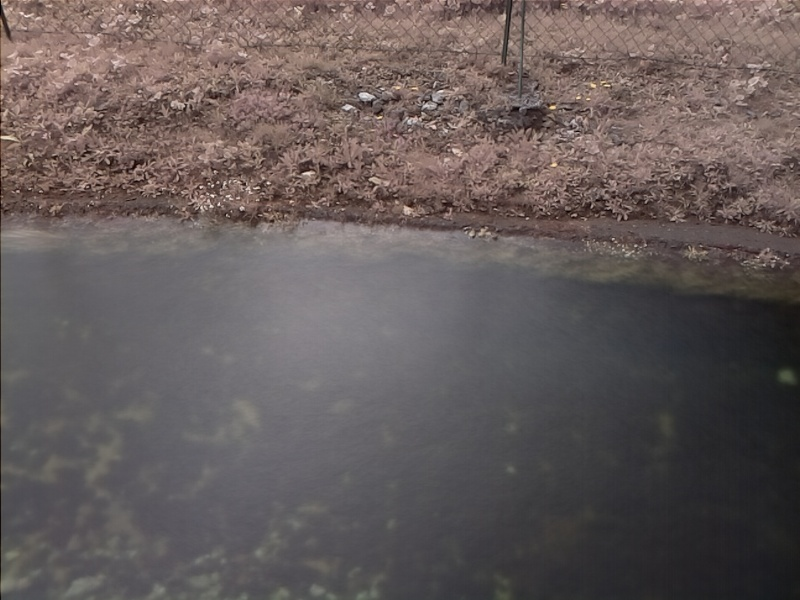Water: (1, 214, 800, 599)
